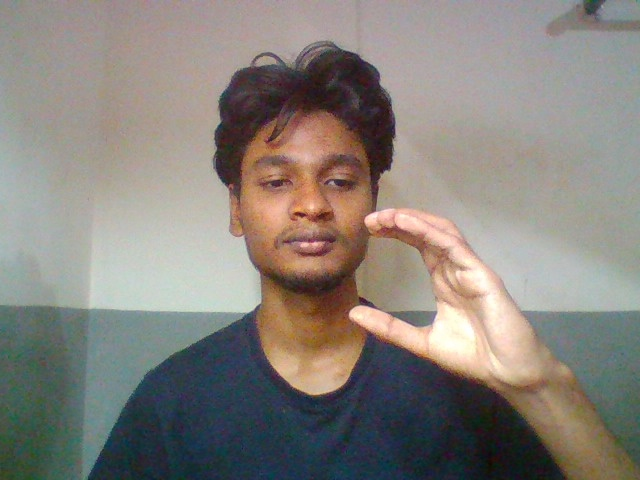C: (334, 201, 576, 405)
